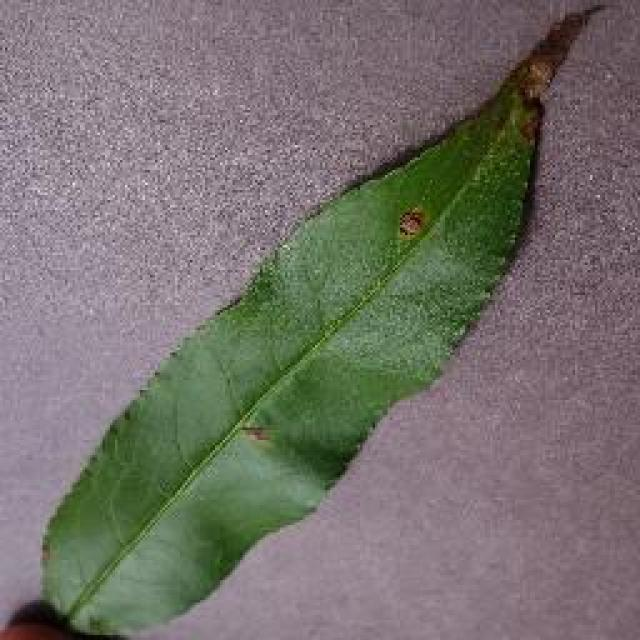Peach_Bacterial_Spot: (382, 185, 468, 270)
